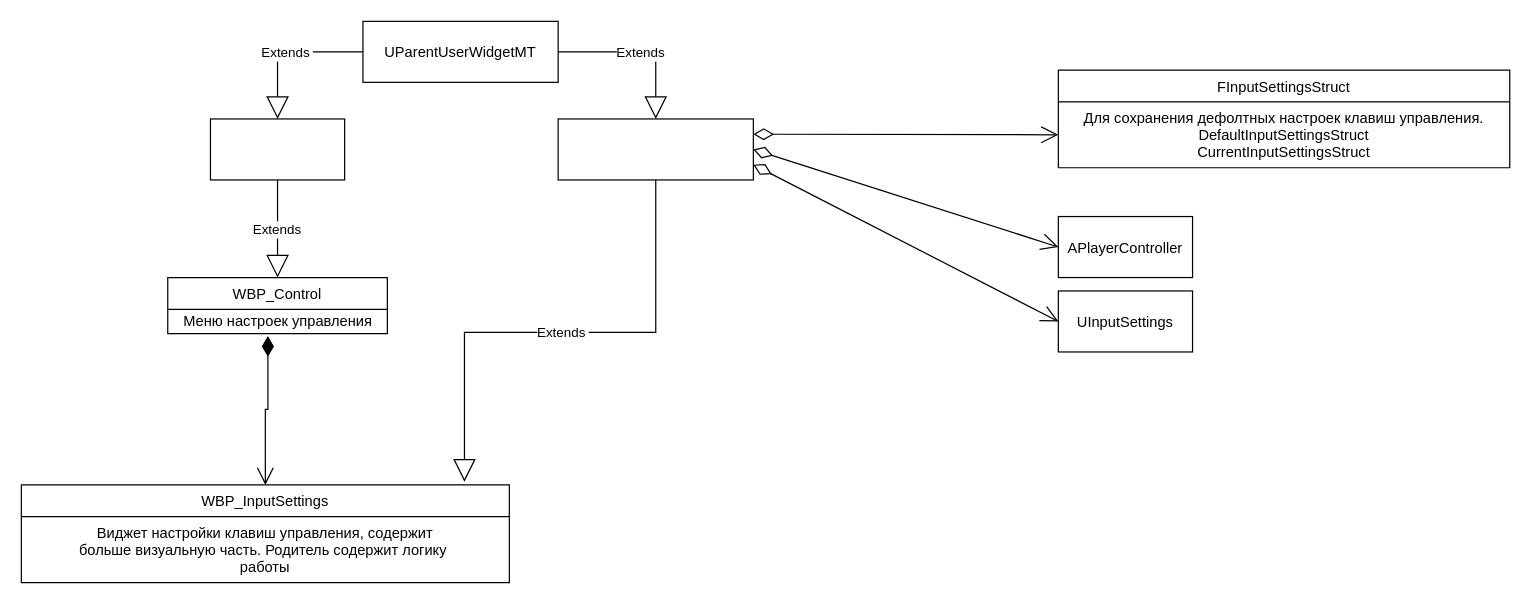
This 1531x608 diagram has some shape labels left out. The centre of each missing label's shape, as x and y in pixels:
UControlUserWidget: the point at 277,149
UInputSettingsUserWidget: the point at 655,149
